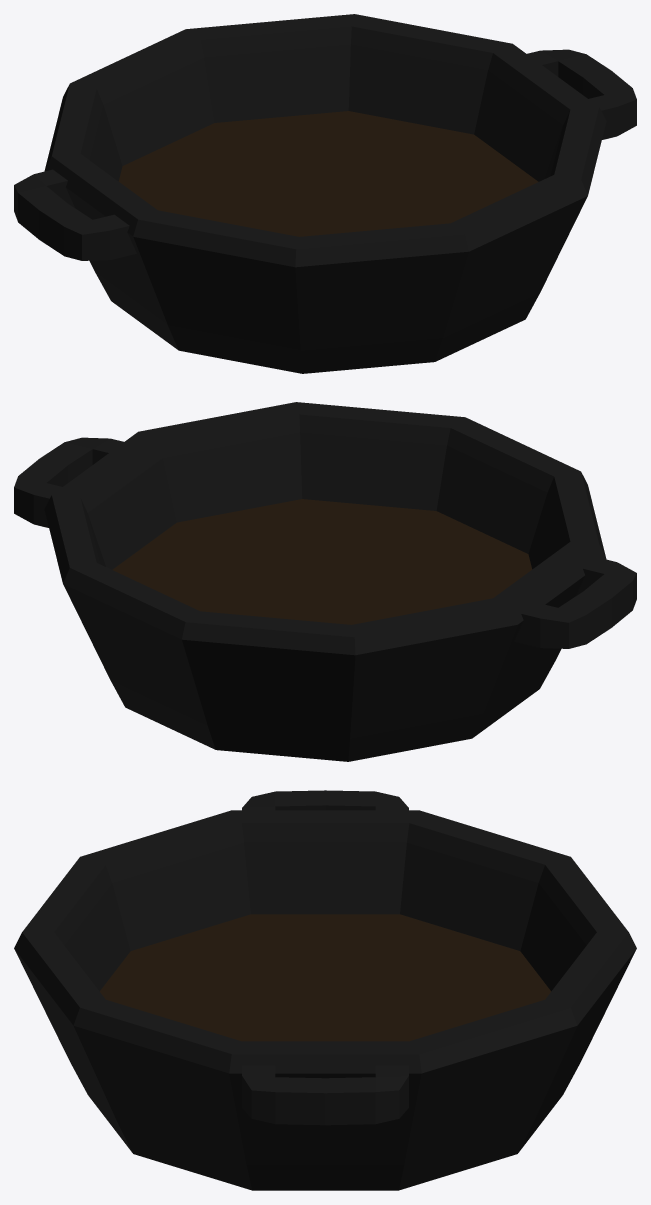
The model's file is CookingPot2_Soup.obj.
The picture shows the model from 3 angles, top to bottom: view 1: azimuth 30°, elevation 25°; view 2: azimuth 150°, elevation 25°; view 3: azimuth 270°, elevation 25°; orthographic projection. The views are drawn at different scales.
Visible parts, largest first — view 1: CookingPot2_Soup_Cylinder.016; view 2: CookingPot2_Soup_Cylinder.016; view 3: CookingPot2_Soup_Cylinder.016.
Boxes of the visible parts, bbox=[...] form: CookingPot2_Soup_Cylinder.016: bbox=[14, 14, 636, 373]; CookingPot2_Soup_Cylinder.016: bbox=[14, 402, 636, 761]; CookingPot2_Soup_Cylinder.016: bbox=[14, 790, 636, 1190].
Bounding box in the file's own units: 2.29 × 0.6224 × 1.99.
